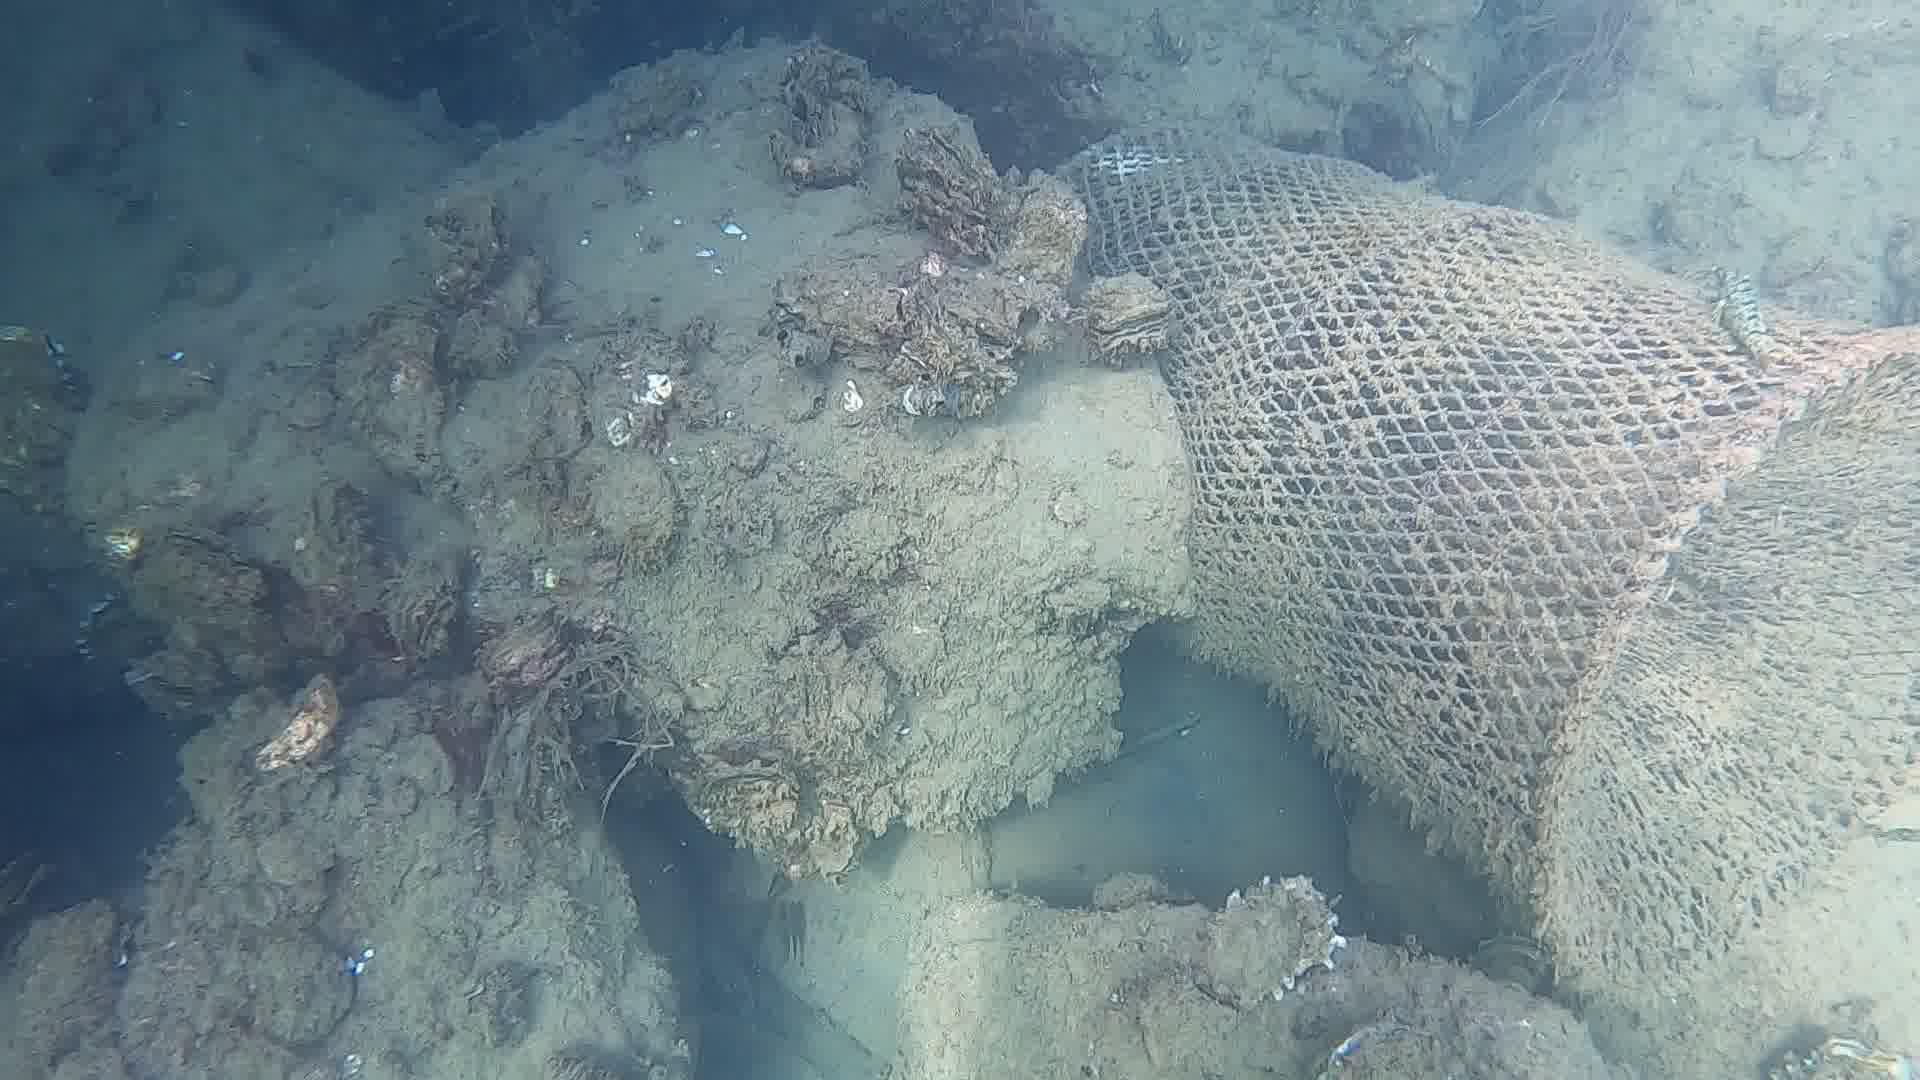spring fish trap: (1052, 112, 1920, 1011)
